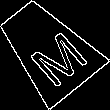M_NW: (12, 15, 83, 83)
